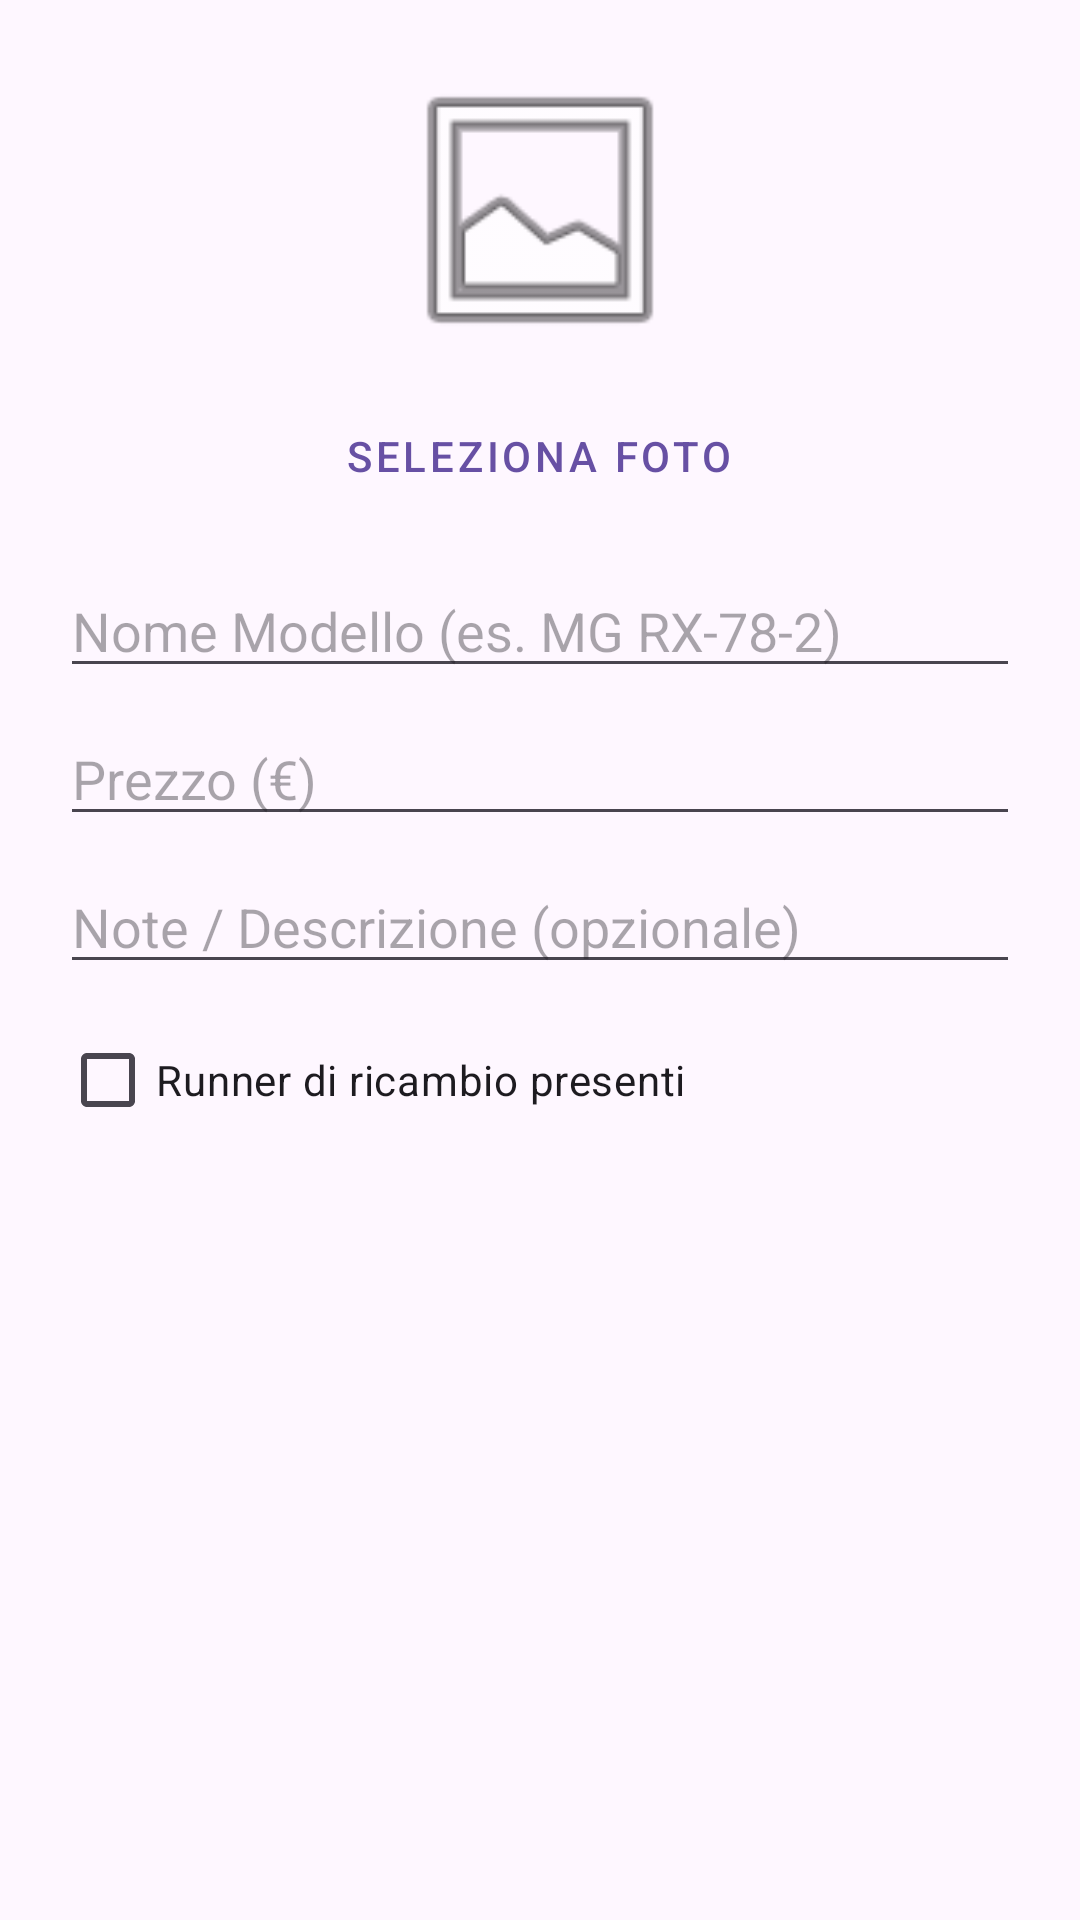

Screen size 1080x1920. Icon name, then its box in pixels as (x1, y1, x2, y2):
Anteprima Foto Kit: (427, 97, 653, 323)
